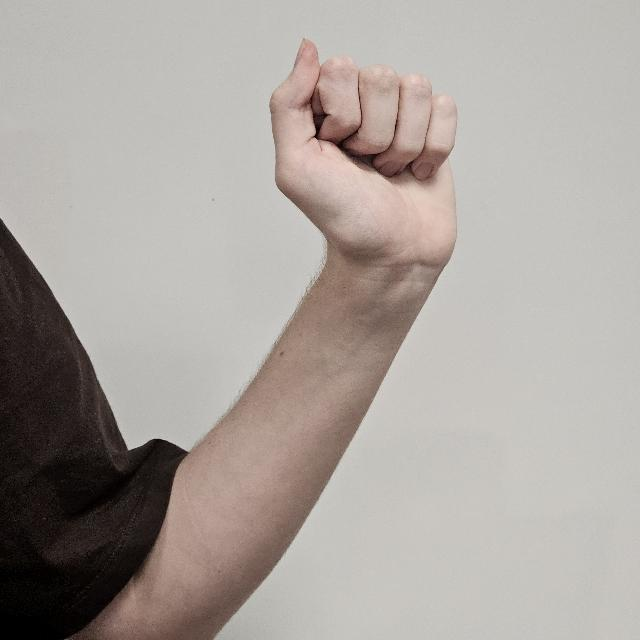Quadro: (270, 32, 458, 278)
